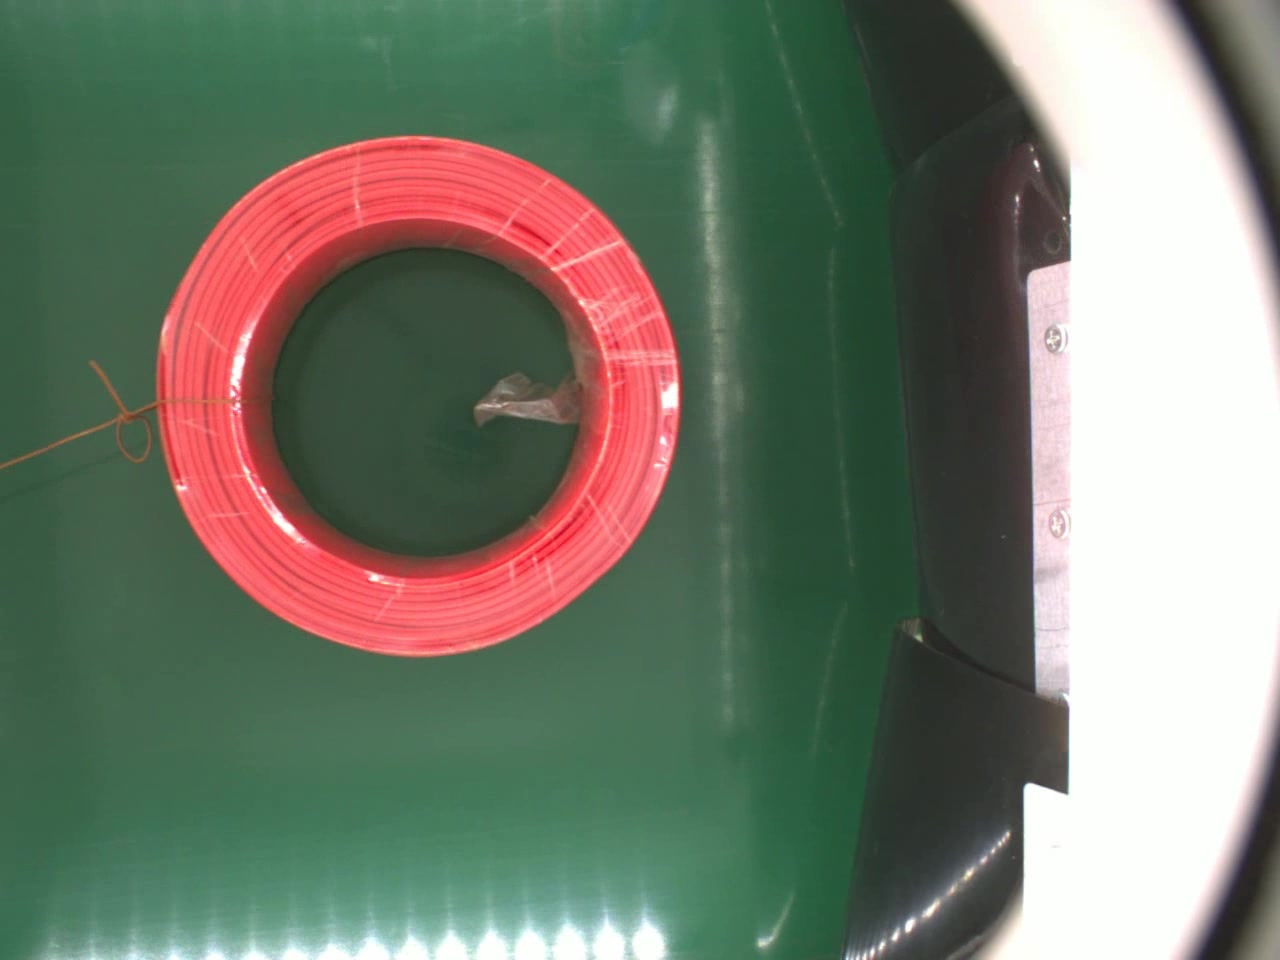red: (147, 129, 693, 667)
